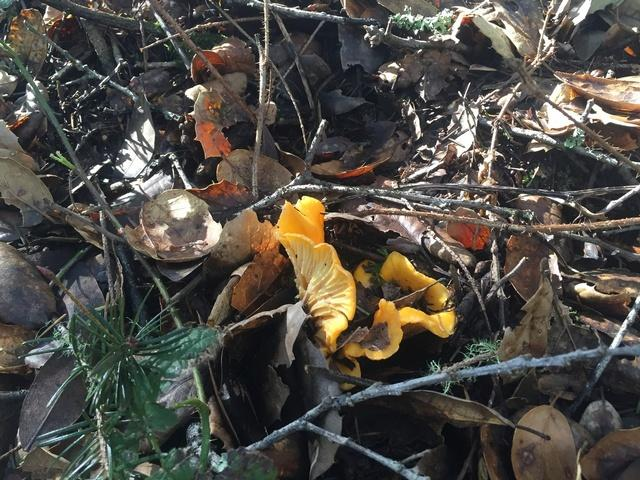edible_mushroom: (275, 193, 460, 372)
